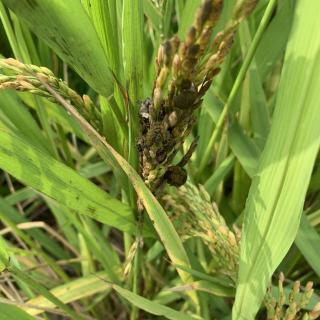Gosong-Palsu: (136, 88, 198, 156), (164, 163, 188, 189)
